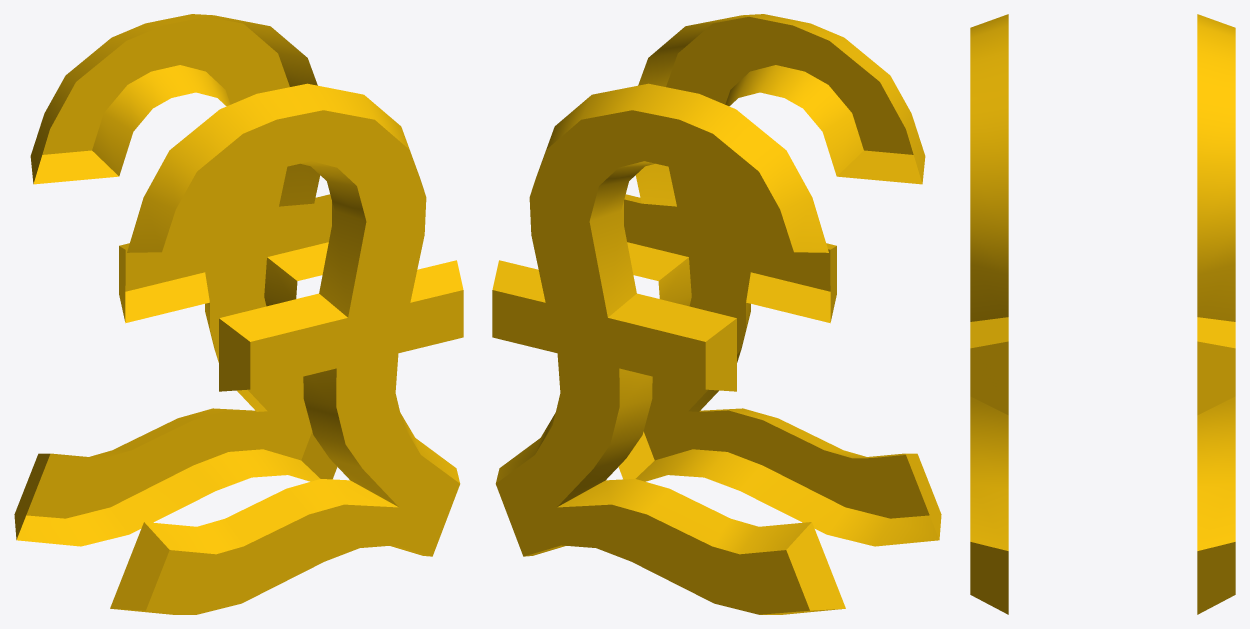
File: Pound.fbx
3 views of the same model, side by side, from view 1: azimuth 30°, elevation 25°; view 2: azimuth 150°, elevation 25°; view 3: azimuth 270°, elevation 25° (orthographic).
Parts seen in each view (by area): view 1: Pound; view 2: Pound; view 3: Pound.
Part boxes in pixels (left/top/right/bottom): Pound: left=14, top=14, right=463, bottom=614; Pound: left=492, top=14, right=941, bottom=614; Pound: left=970, top=14, right=1235, bottom=614.
Bounding box in the file's own units: 70.16 × 97.11 × 46.01.
